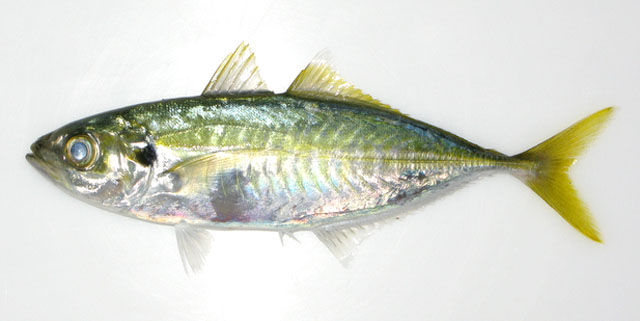fish: (27, 41, 618, 274)
